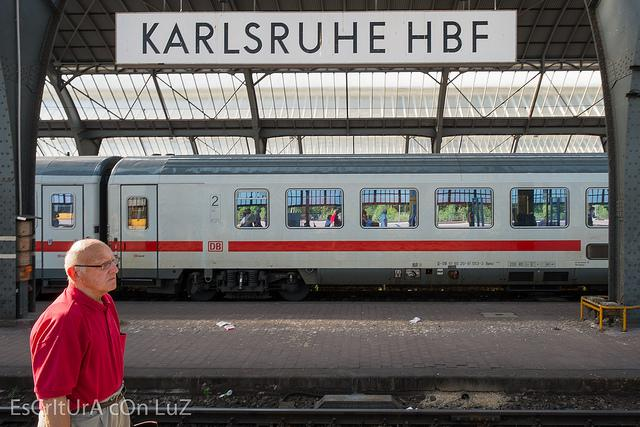Train: (32, 152, 610, 298)
